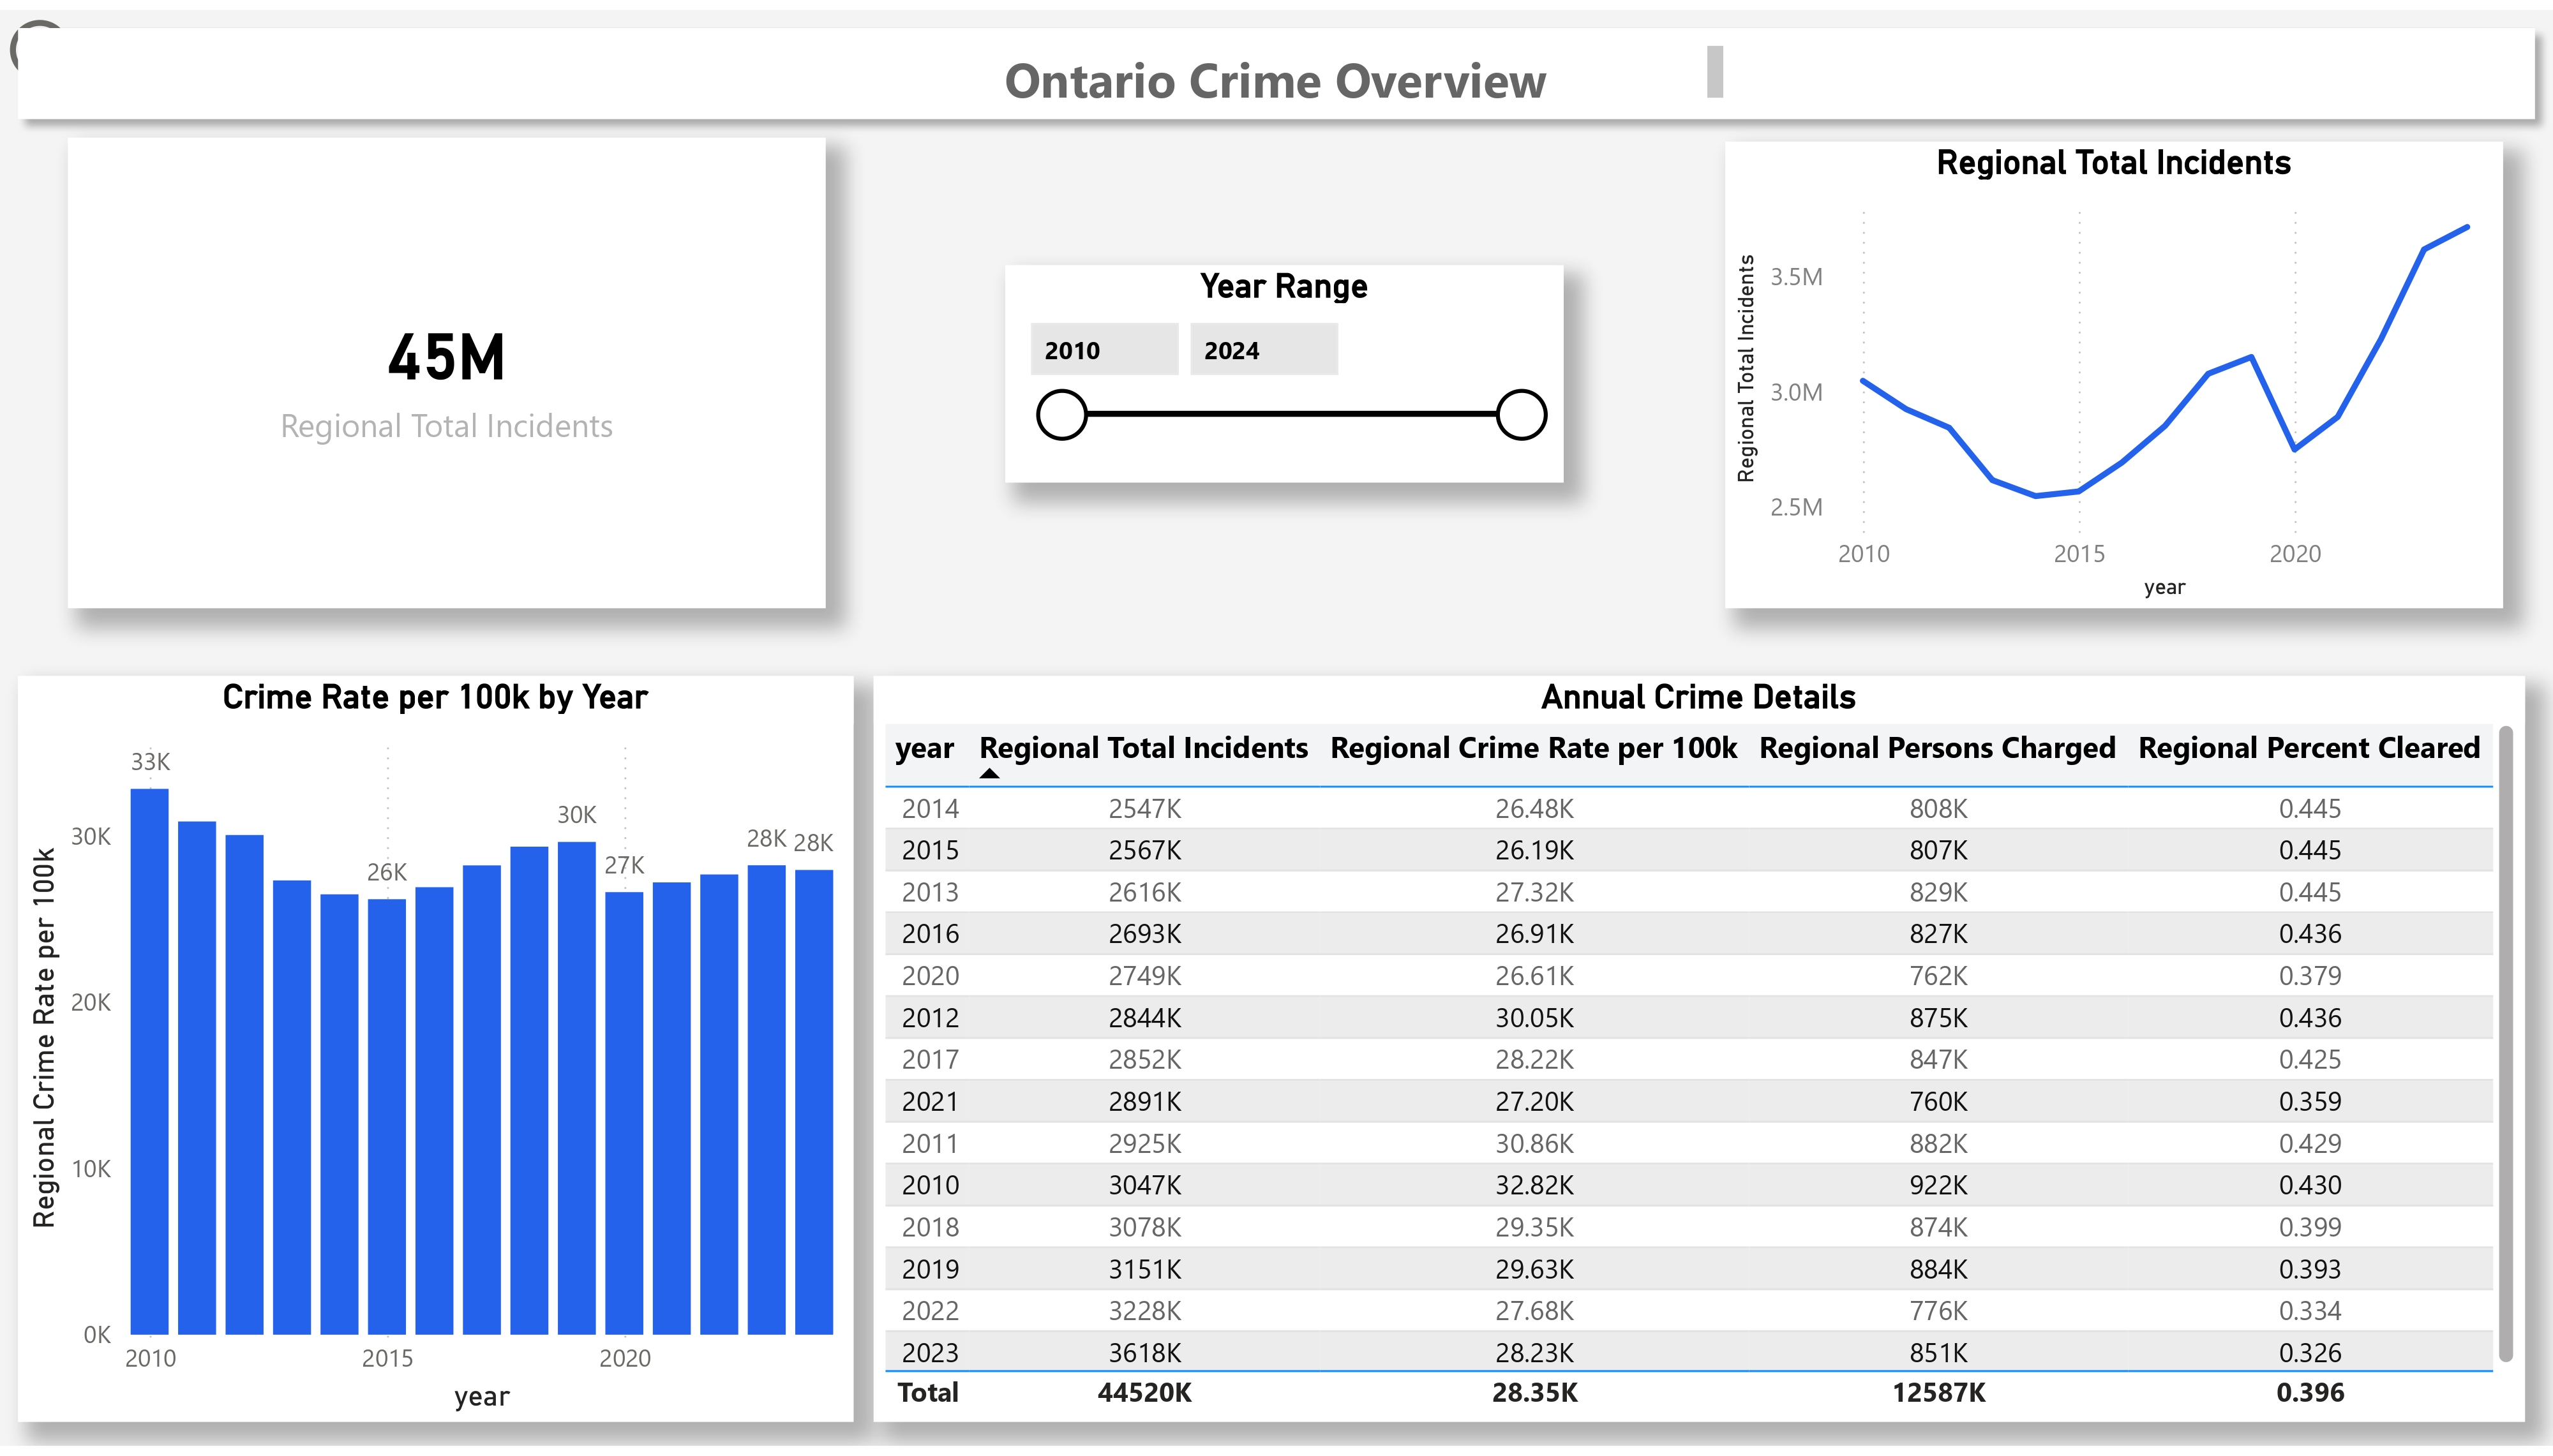

This screenshot's page, from the dashboard's own definition file:
{"tool":"powerbi","page":{"name":"Dashboard","canvas":[1280,720],"ordinal":0},"visuals":[{"type":"card","fields":{"Values":["crime_annual_region.Regional Total Incidents"]},"box":[33.8,63.8,380,236.2],"z":0},{"type":"lineChart","title":"Regional Total Incidents","fields":{"Category":["crime_annual_region.year"],"Y":["crime_annual_region.Regional Total Incidents"]},"box":[865,66.2,390,233.8],"z":1000},{"type":"clusteredColumnChart","title":"Crime Rate per 100k by Year","fields":{"Category":["crime_annual_region.year"],"Y":["crime_annual_region.Regional Crime Rate per 100k"]},"box":[8.8,333.8,418.8,373.8],"z":2000},{"type":"tableEx","title":"Annual Crime Details","fields":{"Values":["crime_annual_region.year","crime_annual_region.Regional Total Incidents","crime_annual_region.Regional Crime Rate per 100k","crime_annual_region.Regional Persons Charged","crime_annual_region.Regional Percent Cleared"]},"box":[437.5,333.8,827.5,373.8],"z":3000},{"type":"actionButton","box":[0,0,100,40],"z":4000},{"type":"slicer","title":"Year Range","fields":{"Values":["crime_annual_region.year"]},"box":[503.8,127.5,280,108.8],"z":5000},{"type":"shape","box":[0,0,1280,63.8],"z":6000},{"type":"textbox","box":[417.5,12.5,451.2,38.8],"z":7000}]}

Visuals, with their boxes in screenshot pixels (x1, y1, x2, y2), scaled from the page's 1280x720 canvas onto the 2553x1456 screenshot:
card - crime_annual_region.Regional Total Incidents: (68, 129, 825, 607)
"Regional Total Incidents" lineChart: (1725, 134, 2503, 607)
"Crime Rate per 100k by Year" clusteredColumnChart: (18, 675, 853, 1431)
"Annual Crime Details" tableEx: (872, 675, 2523, 1431)
actionButton: (0, 0, 199, 81)
"Year Range" slicer: (1005, 258, 1563, 478)
shape: (0, 0, 2552, 129)
textbox: (833, 26, 1733, 104)
